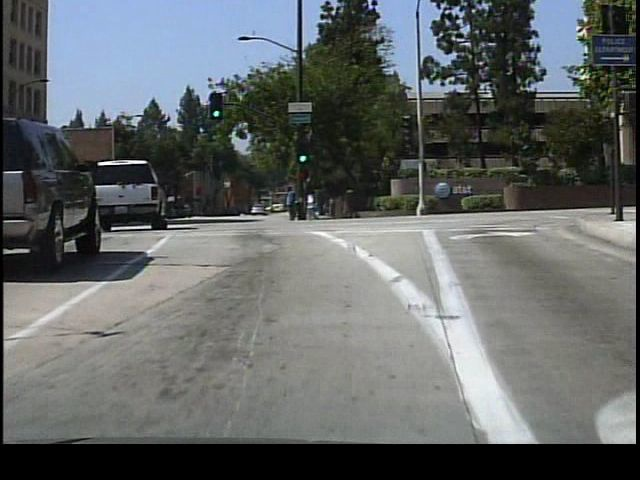person: (281, 177, 300, 223), (302, 185, 322, 223)
